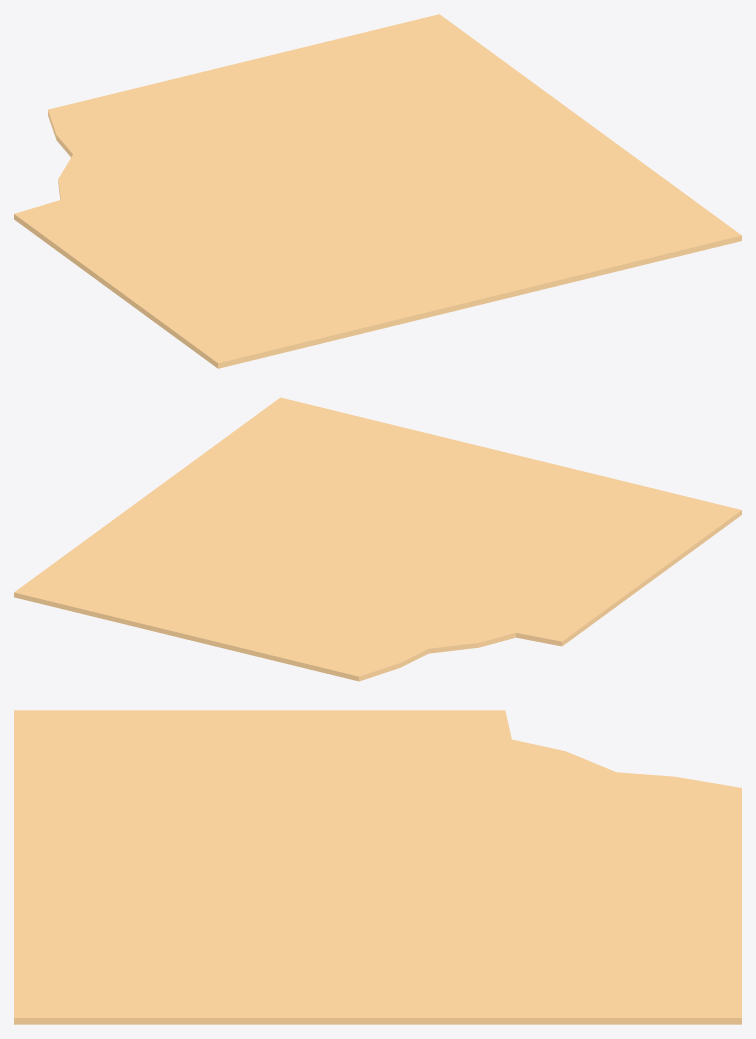
File: object_4_lev1.glb
3 views of the same model, one above another, from view 1: azimuth 30°, elevation 25°; view 2: azimuth 150°, elevation 25°; view 3: azimuth 270°, elevation 25° (orthographic). The views are drawn at different scales.
Visible parts, largest first — view 1: object_4_lev1; view 2: object_4_lev1; view 3: object_4_lev1.
Part boxes in pixels (bbox=[...]): object_4_lev1: bbox=[14, 14, 741, 368]; object_4_lev1: bbox=[14, 397, 741, 681]; object_4_lev1: bbox=[14, 710, 741, 1024].
Size of the model in its own units: 10 by 0.1 by 10.
1 material, 1 textured.
